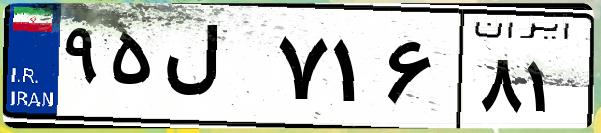1: (330, 28, 385, 110), (525, 38, 570, 115)
5: (110, 28, 158, 98)
6: (385, 28, 445, 110)
7: (270, 28, 330, 110)
8: (475, 38, 525, 113)
9: (57, 26, 110, 100)
ل: (158, 20, 270, 120)
